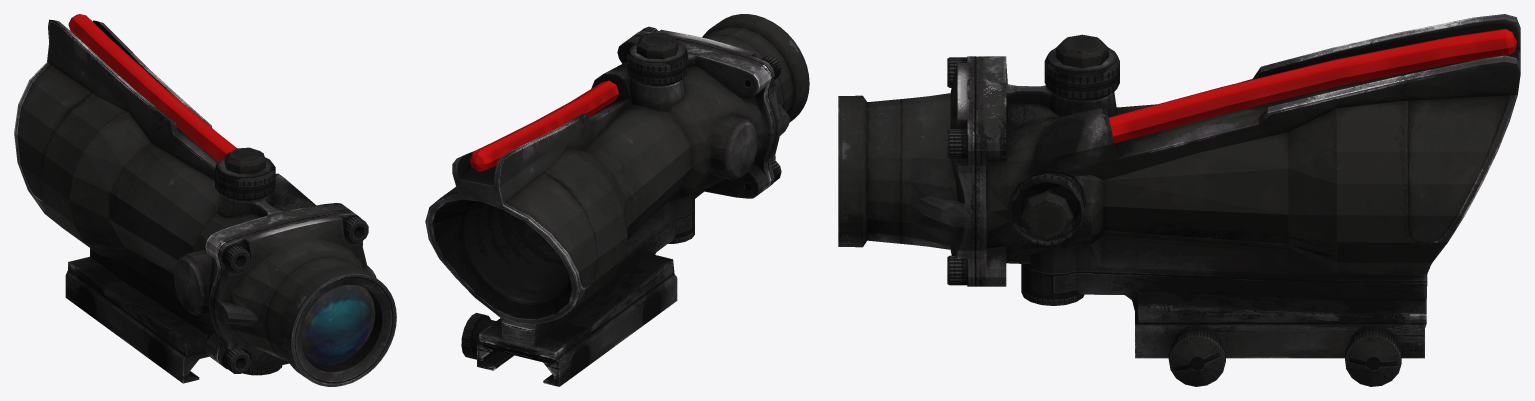
The model's file is Acog.fbx.
The picture shows the model from 3 angles, left to right: view 1: azimuth 30°, elevation 25°; view 2: azimuth 150°, elevation 25°; view 3: azimuth 270°, elevation 25°; orthographic projection. The views are drawn at different scales.
Visible parts, largest first — view 1: Acog, LensAcog; view 2: Acog; view 3: Acog.
Boxes of the visible parts, x1,y1,x2,y2 form: Acog: (14, 14, 396, 386); LensAcog: (301, 285, 375, 366); Acog: (425, 14, 809, 386); Acog: (838, 14, 1520, 386).
Size of the model in its own units: 1.17 by 1.85 by 3.56.
